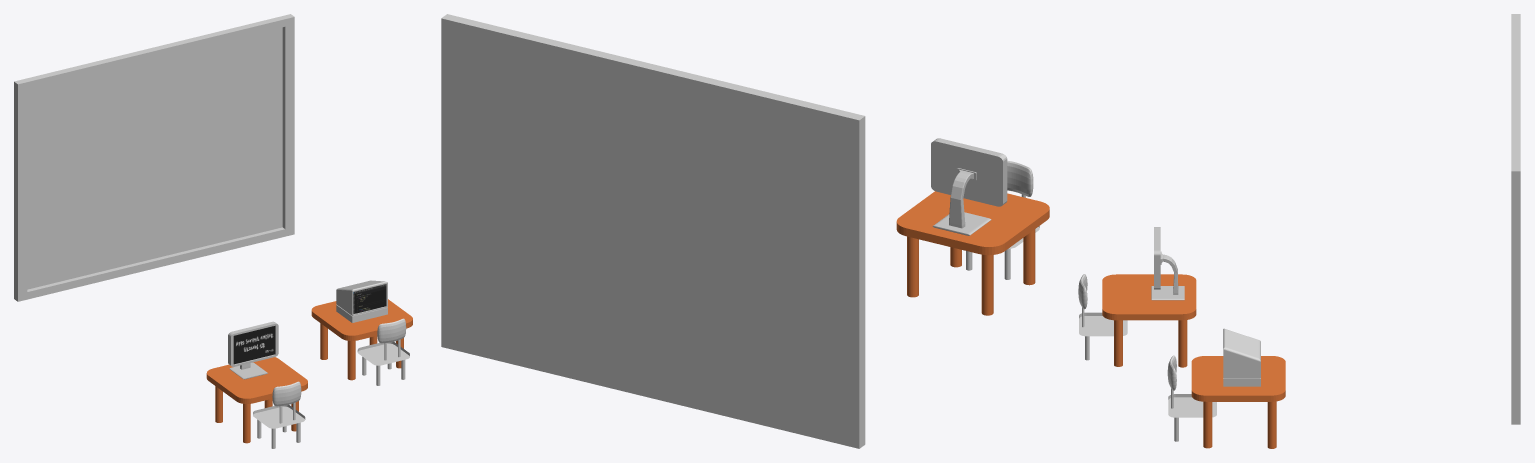
3 renders of one model, left to right at view 1: azimuth 30°, elevation 25°; view 2: azimuth 150°, elevation 25°; view 3: azimuth 270°, elevation 25°, orthographic. The views are drawn at different scales.
Parts seen in each view (by area): view 1: videoScreen, outertBoard, desk, desk2, screen, com2, monitor, chair_b2, chair_b, screen2, chair_f, chair_f2 (+2 smaller); view 2: outertBoard, desk, monitor, chair_f; view 3: desk, desk2, outertBoard, com2, monitor, chair_b, chair_b2.
Boxes of the visible parts, bbox=[...] form: videoScreen: bbox=[27, 27, 282, 289]; outertBoard: bbox=[14, 14, 294, 301]; desk: bbox=[206, 357, 307, 443]; desk2: bbox=[311, 299, 412, 380]; screen: bbox=[233, 326, 274, 364]; com2: bbox=[336, 280, 387, 322]; monitor: bbox=[228, 321, 278, 379]; chair_b2: bbox=[357, 342, 409, 365]; chair_b: bbox=[253, 405, 305, 428]; screen2: bbox=[353, 284, 386, 313]; chair_f: bbox=[272, 381, 301, 406]; chair_f2: bbox=[377, 318, 406, 343]; outertBoard: bbox=[441, 14, 865, 448]; desk: bbox=[896, 191, 1049, 315]; monitor: bbox=[931, 138, 1007, 235]; chair_f: bbox=[1007, 160, 1033, 196]; desk: bbox=[1102, 274, 1196, 367]; desk2: bbox=[1191, 356, 1285, 448]; outertBoard: bbox=[1511, 14, 1520, 424]; com2: bbox=[1223, 328, 1260, 386]; monitor: bbox=[1151, 227, 1184, 300]; chair_b: bbox=[1079, 312, 1127, 336]; chair_b2: bbox=[1168, 394, 1216, 417].
Size of the model in its own units: 1.65 by 1.42 by 1.96.
Materials: 4 (2 with a texture image).
